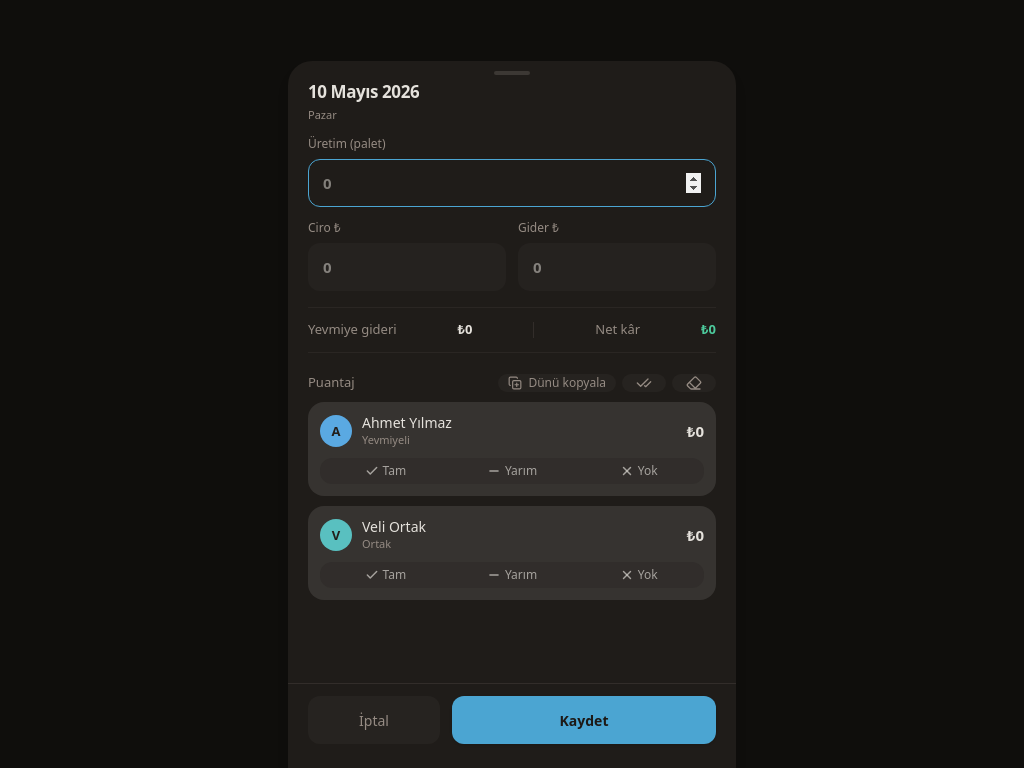
Test: DayDetailSheet › ortak yokken (hepsi ABSENT) oluşan kârı dağıtılmayan olarak gösterir
Click the button with aria-label "Ahmet Yılmaz: Tam": (385, 472) [324, 462, 447, 480]
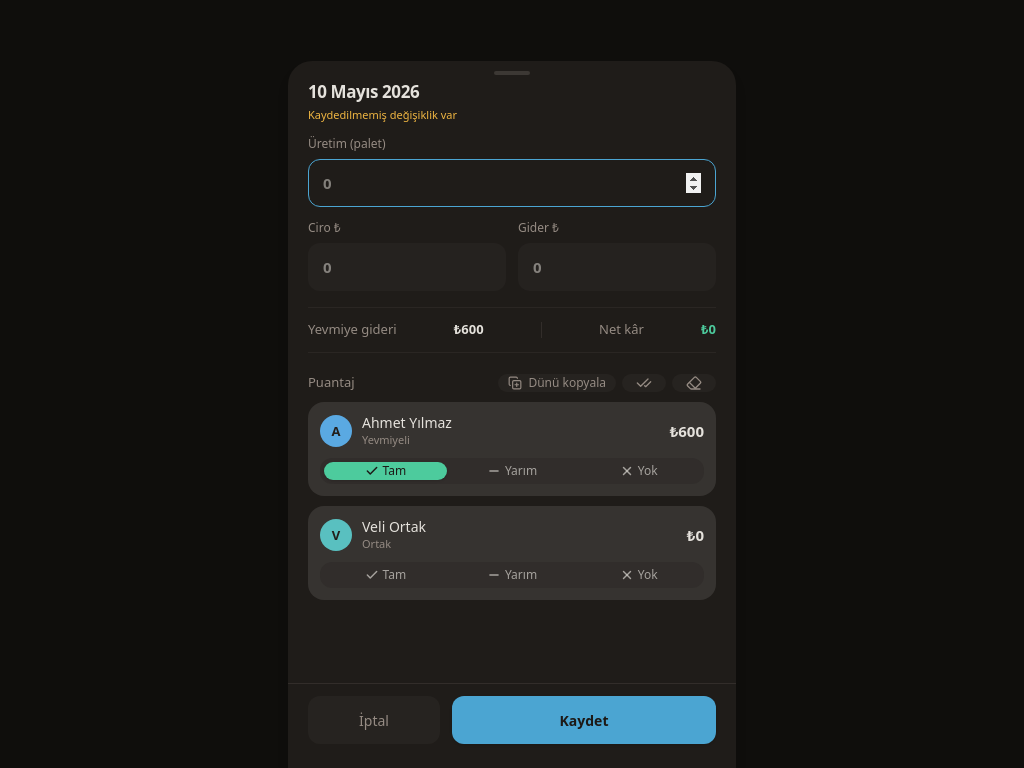
Click the button with aria-label "Veli Ortak: Yok": (639, 576) [577, 566, 700, 584]
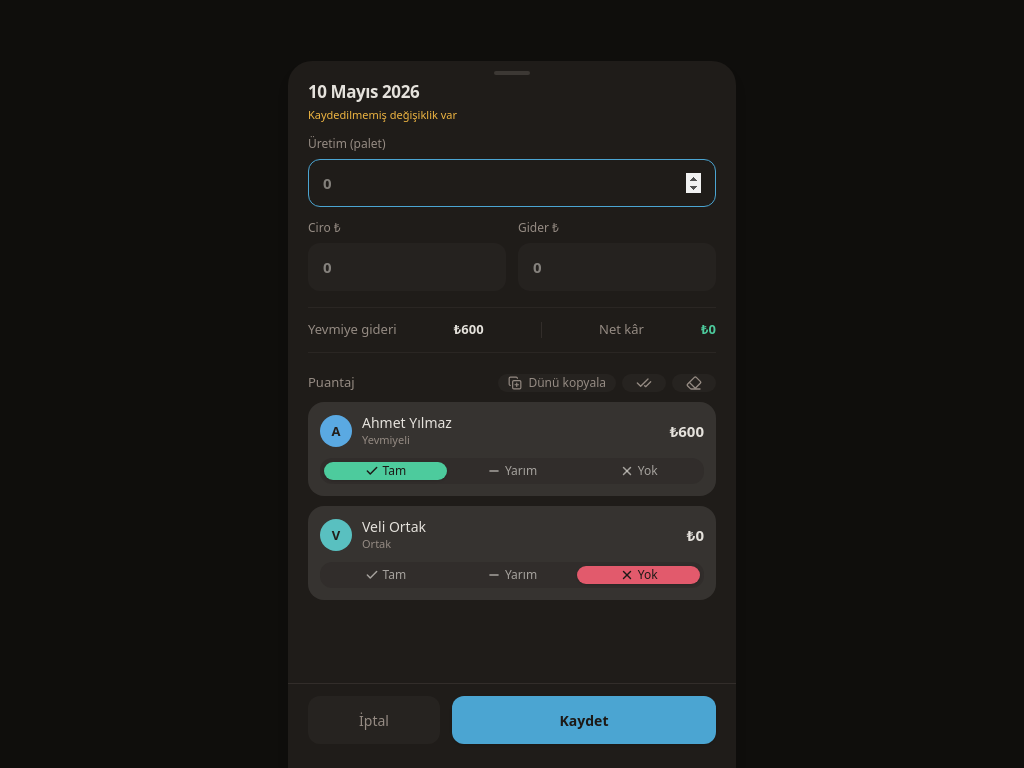
In the number field labelled "Ciro ₺": (407, 268) [308, 244, 506, 292], type "5000"
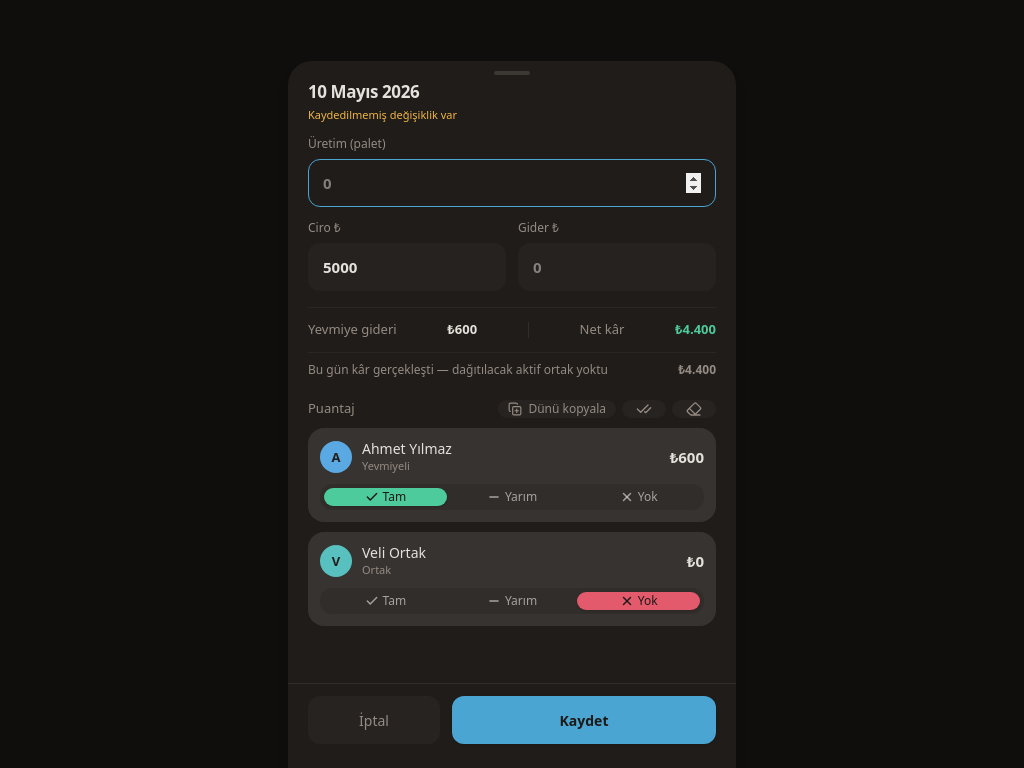
Expected: the text "Bu gün kâr gerçekleşti — dağıtılacak aktif ortak yoktu" is shown, [308, 361, 608, 379]
